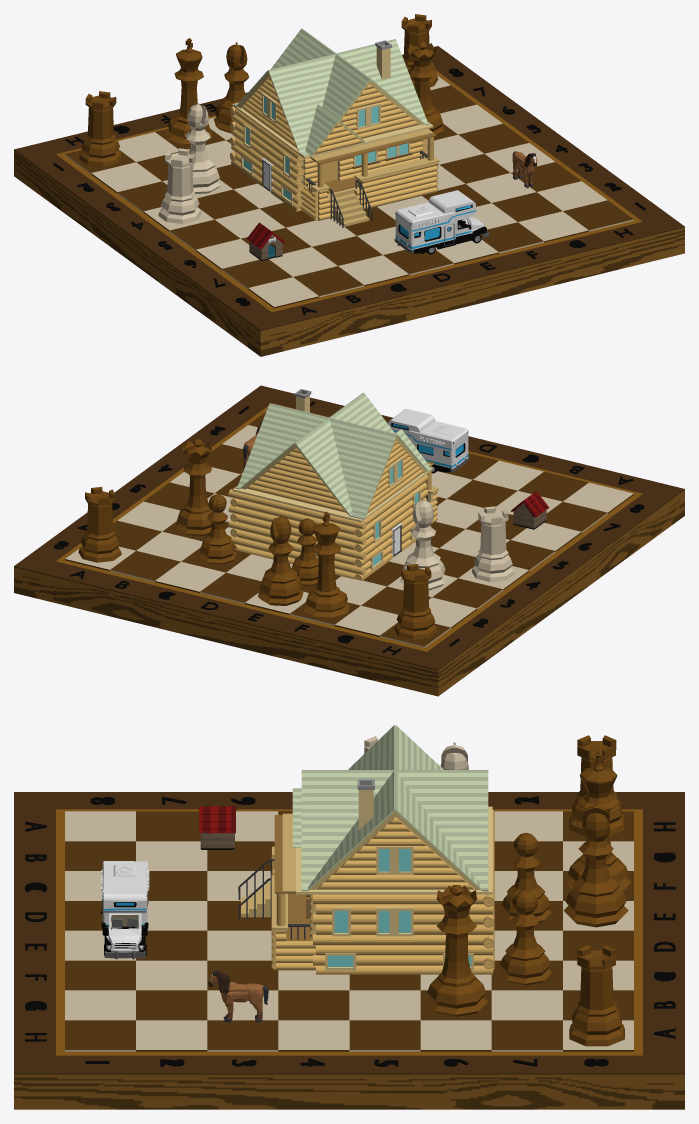
3 renders of one model, top to bottom at view 1: azimuth 30°, elevation 25°; view 2: azimuth 150°, elevation 25°; view 3: azimuth 270°, elevation 25°, orthographic. The views are drawn at different scales.
Parts seen in each view (by area): view 1: Cube.002, Cube.1516, VEHICLES_CAMPER, OBJRANDOM_DOGHOUSE, ANIMAL_CABALLO; view 2: Cube.002, Cube.1516, VEHICLES_CAMPER, OBJRANDOM_DOGHOUSE; view 3: Cube.002, Cube.1516, VEHICLES_CAMPER, OBJRANDOM_DOGHOUSE, ANIMAL_CABALLO.
Part boxes in pixels (left/top/right/bottom): Cube.002: left=14, top=14, right=684, bottom=356; Cube.1516: left=230, top=28, right=439, bottom=227; VEHICLES_CAMPER: left=394, top=190, right=488, bottom=254; OBJRANDOM_DOGHOUSE: left=247, top=222, right=285, bottom=260; ANIMAL_CABALLO: left=512, top=151, right=537, bottom=188; Cube.002: left=14, top=385, right=684, bottom=696; Cube.1516: left=228, top=389, right=438, bottom=580; VEHICLES_CAMPER: left=387, top=409, right=469, bottom=473; OBJRANDOM_DOGHOUSE: left=511, top=491, right=549, bottom=529; Cube.002: left=14, top=735, right=684, bottom=1109; Cube.1516: left=238, top=725, right=494, bottom=974; VEHICLES_CAMPER: left=100, top=861, right=149, bottom=959; OBJRANDOM_DOGHOUSE: left=199, top=806, right=236, bottom=849; ANIMAL_CABALLO: left=208, top=970, right=268, bottom=1022.
Size of the model in its own units: 3981 by 1484 by 4012.
Materials: 44 (3 with a texture image).
